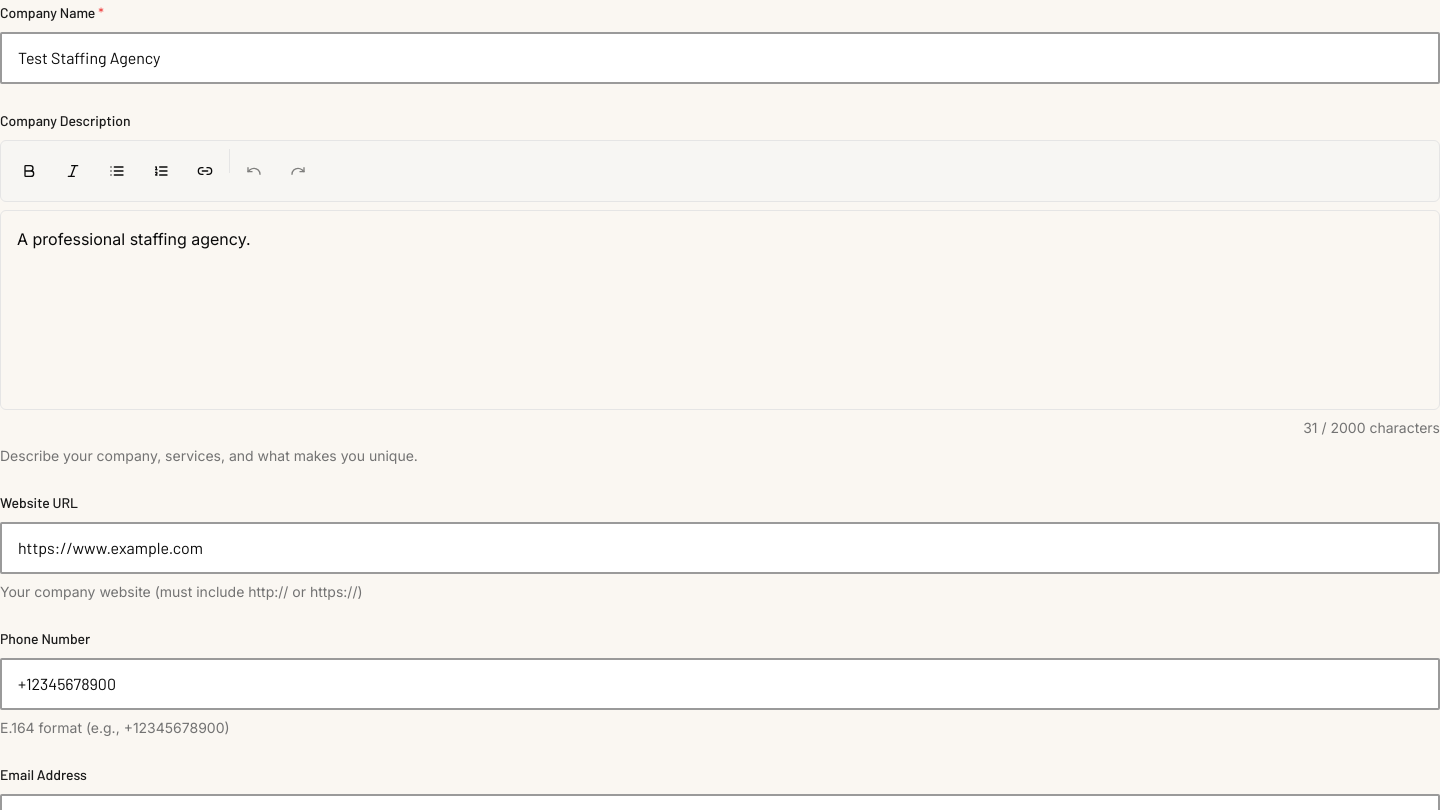
ProfileEditForm › Form Actions › should enable Save button when form has changes
The image size is (1440, 810).
In the field showing "Test Staffing Agency": {"x": 720, "y": 58} [0,32,1439,84], type " Updated"
(page scrolled)
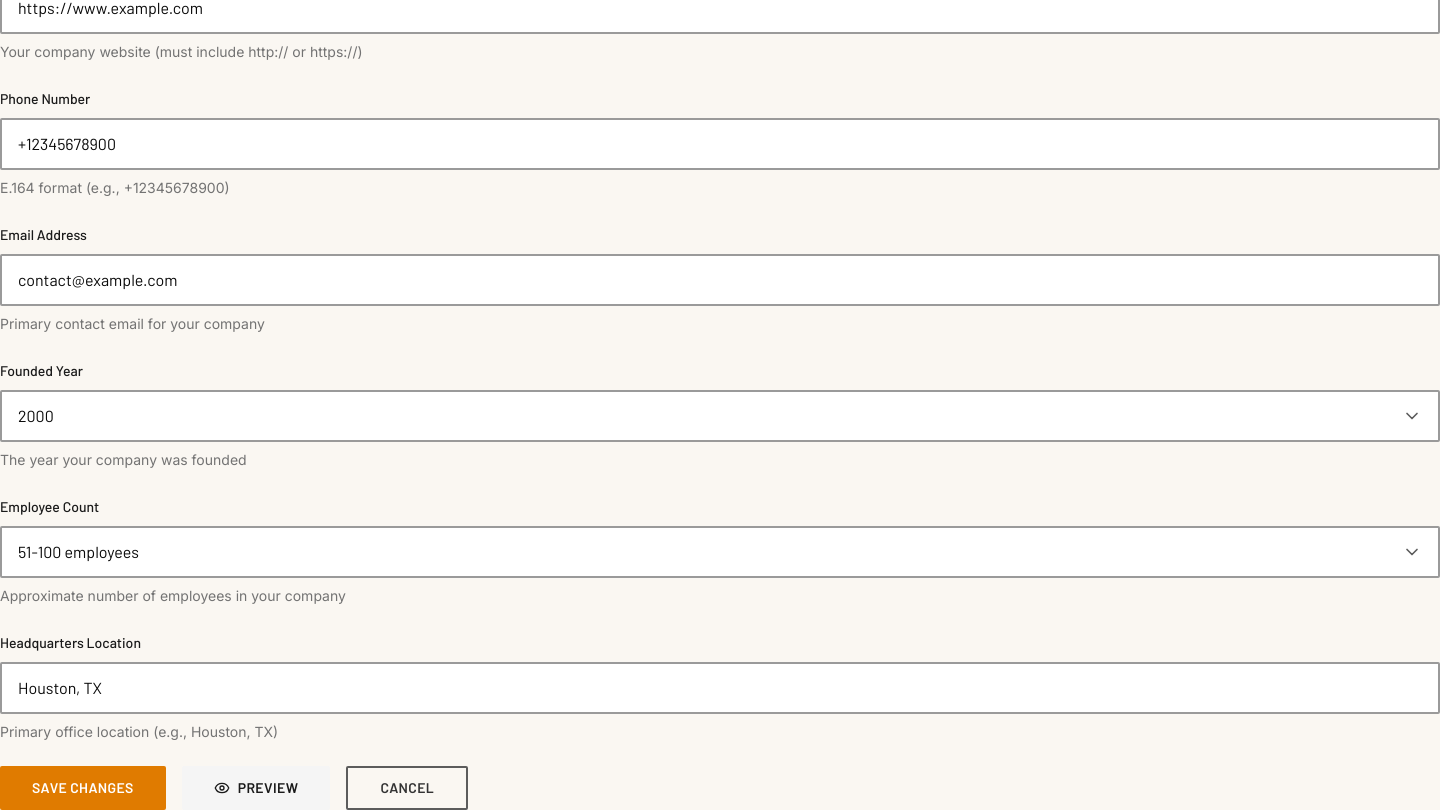
Check: the button "Save Changes" is enabled, box [0,766,166,809]
